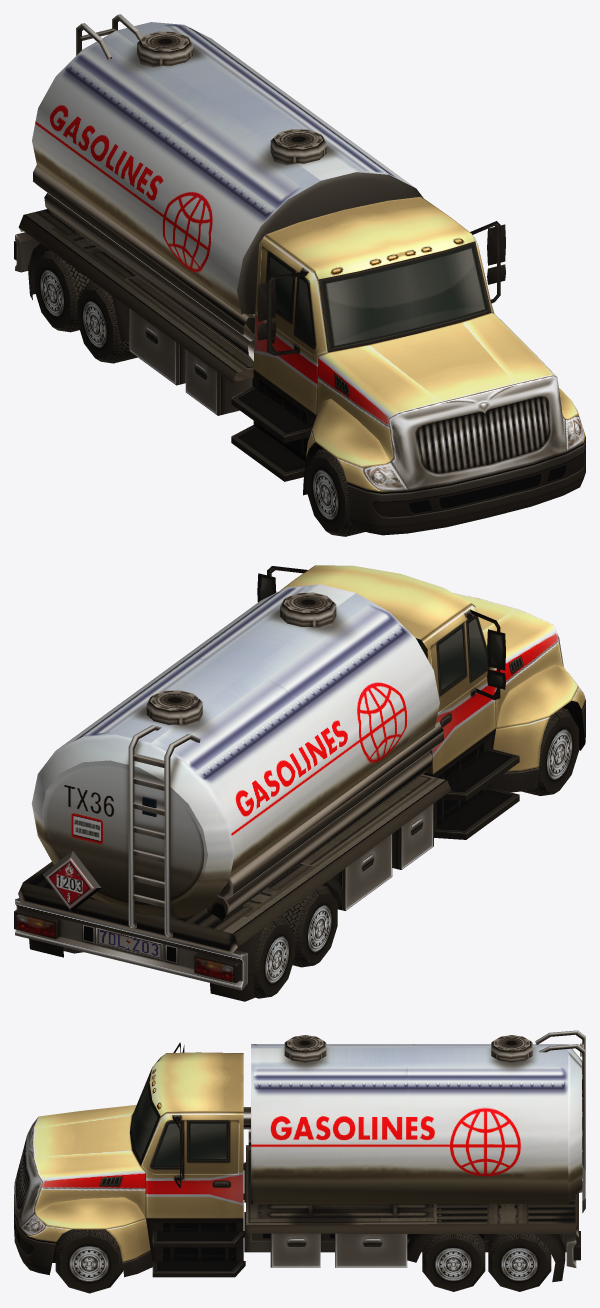
Rendered from traf_tank_truck.fbx.
The picture shows the model from 3 angles, top to bottom: view 1: azimuth 30°, elevation 25°; view 2: azimuth 150°, elevation 25°; view 3: azimuth 270°, elevation 25°; orthographic projection. The views are drawn at different scales.
Visible parts, largest first — view 1: traf_tank_truck; view 2: traf_tank_truck; view 3: traf_tank_truck.
Part boxes in pixels (x1,y1,x2,y2): traf_tank_truck: (14,14,585,536); traf_tank_truck: (14,565,585,1001); traf_tank_truck: (14,1030,585,1293).
Bounding box in the file's own units: 237 × 244 × 609.
